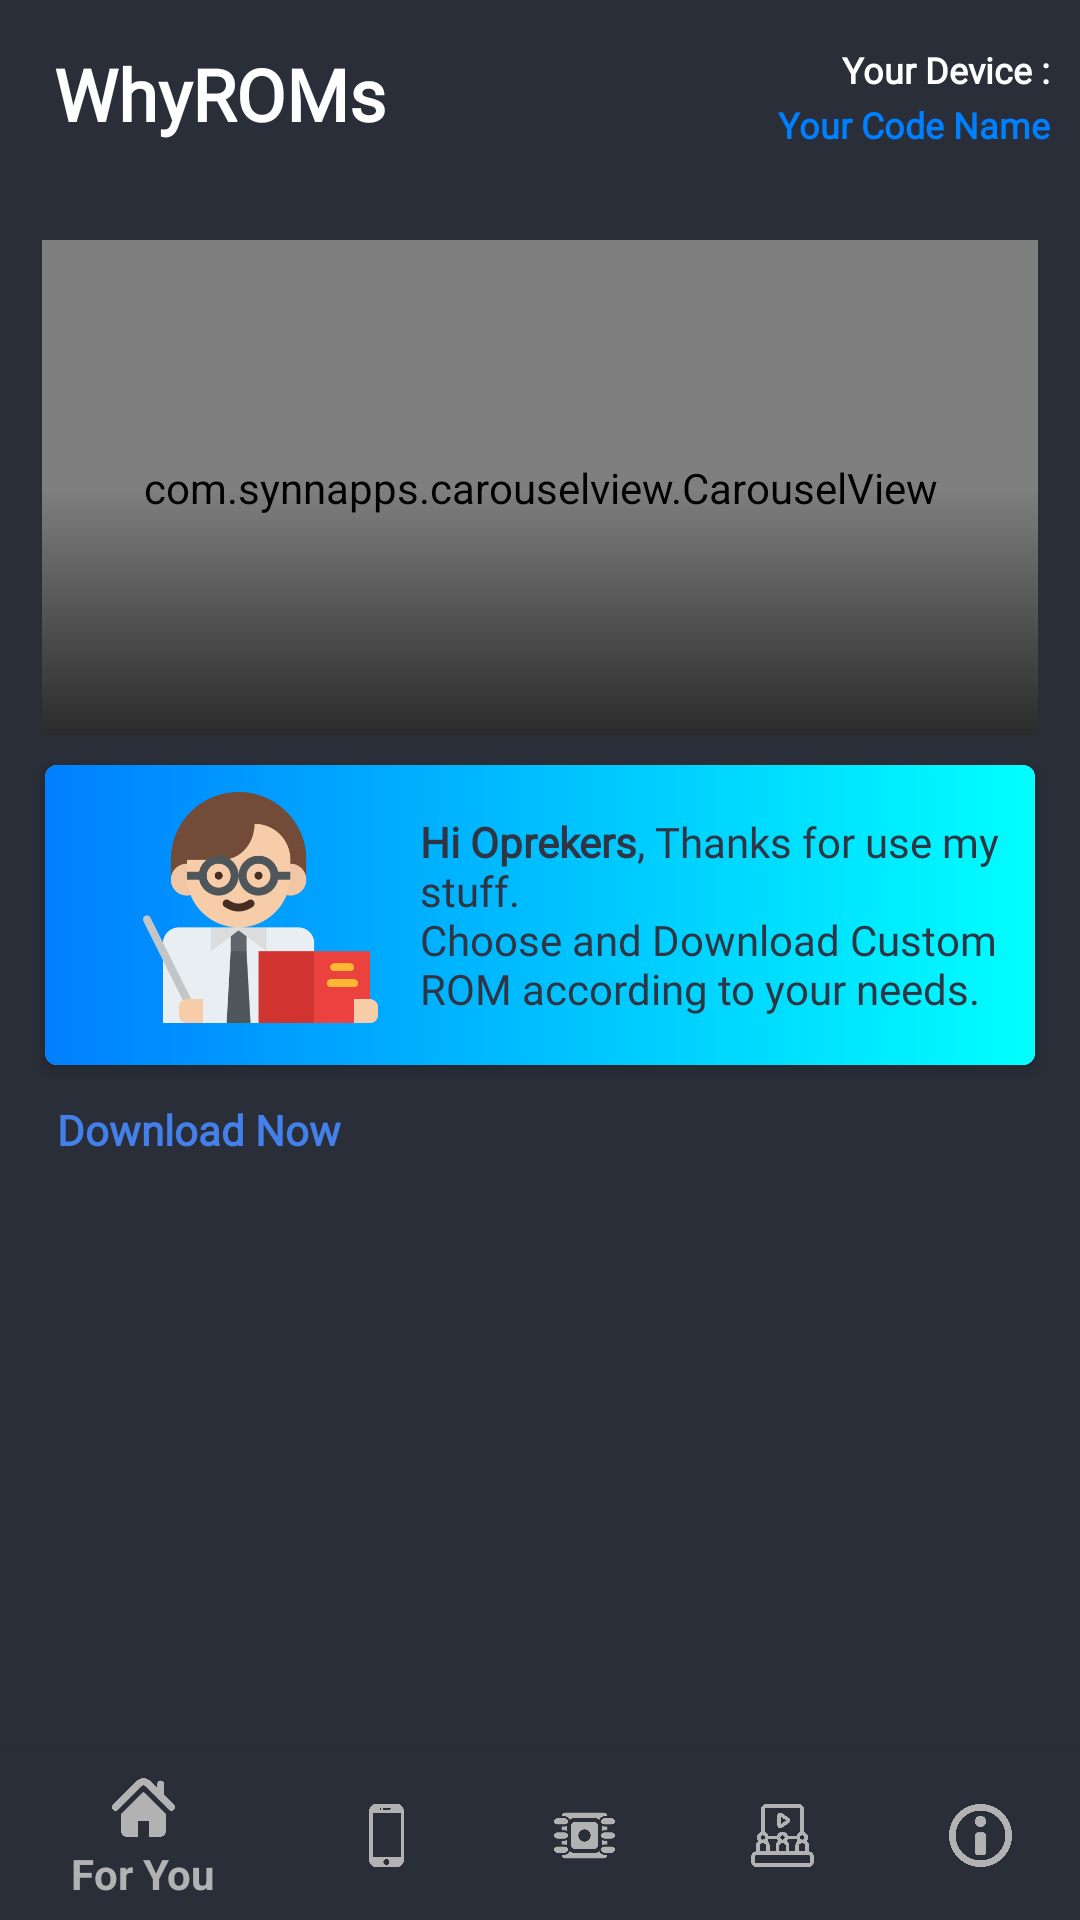

Locate icon controls on the screen. Image size 1080 x 1920, boxes as box(x1, y1, x2, y2).
learn: box(143, 780, 390, 1035)
